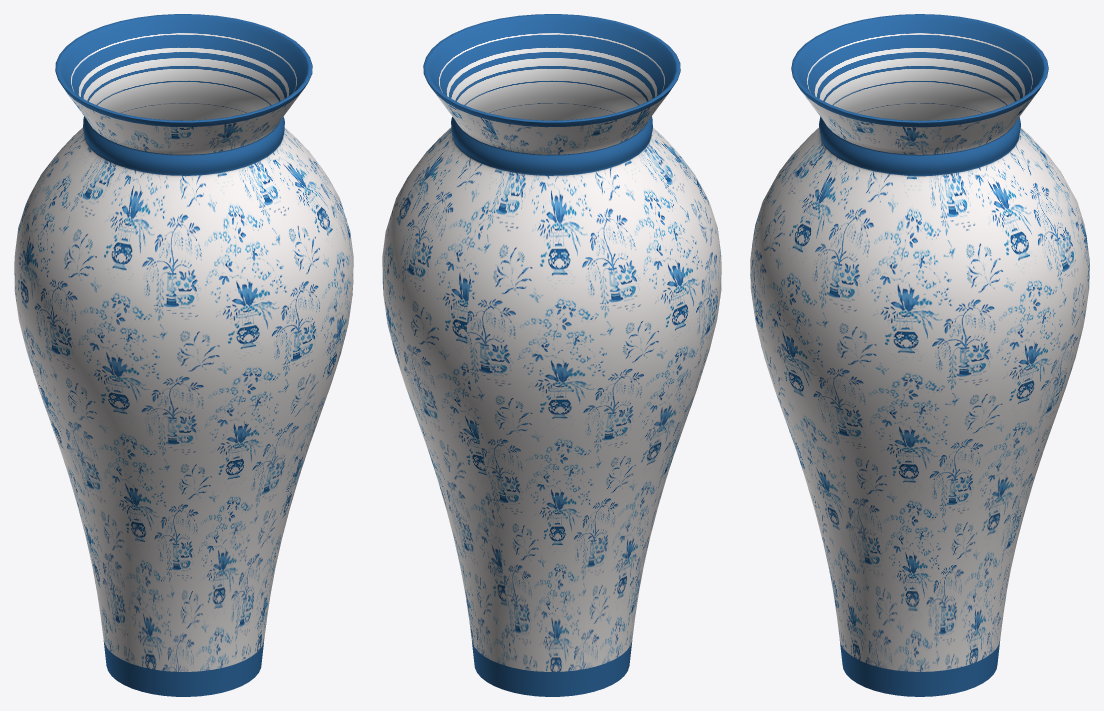
Rendered from Vase.fbx.
3 renders of one model, left to right at view 1: azimuth 30°, elevation 25°; view 2: azimuth 150°, elevation 25°; view 3: azimuth 270°, elevation 25°, orthographic.
Visible parts, largest first — view 1: pCylinder1; view 2: pCylinder1; view 3: pCylinder1.
Part boxes in pixels (left/top/right/bottom): pCylinder1: left=14, top=14, right=353, bottom=696; pCylinder1: left=382, top=14, right=721, bottom=696; pCylinder1: left=750, top=14, right=1089, bottom=696.
Bounding box in the file's own units: 1.7 × 3.29 × 1.7.
